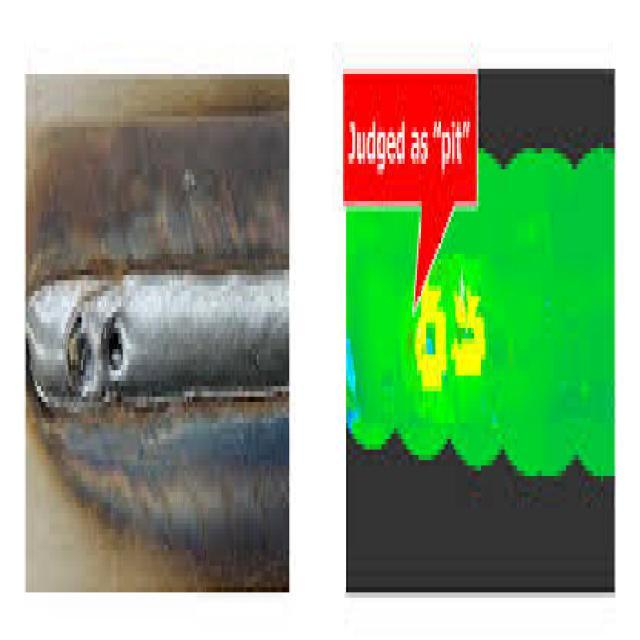Defect: (60, 290, 128, 392)
